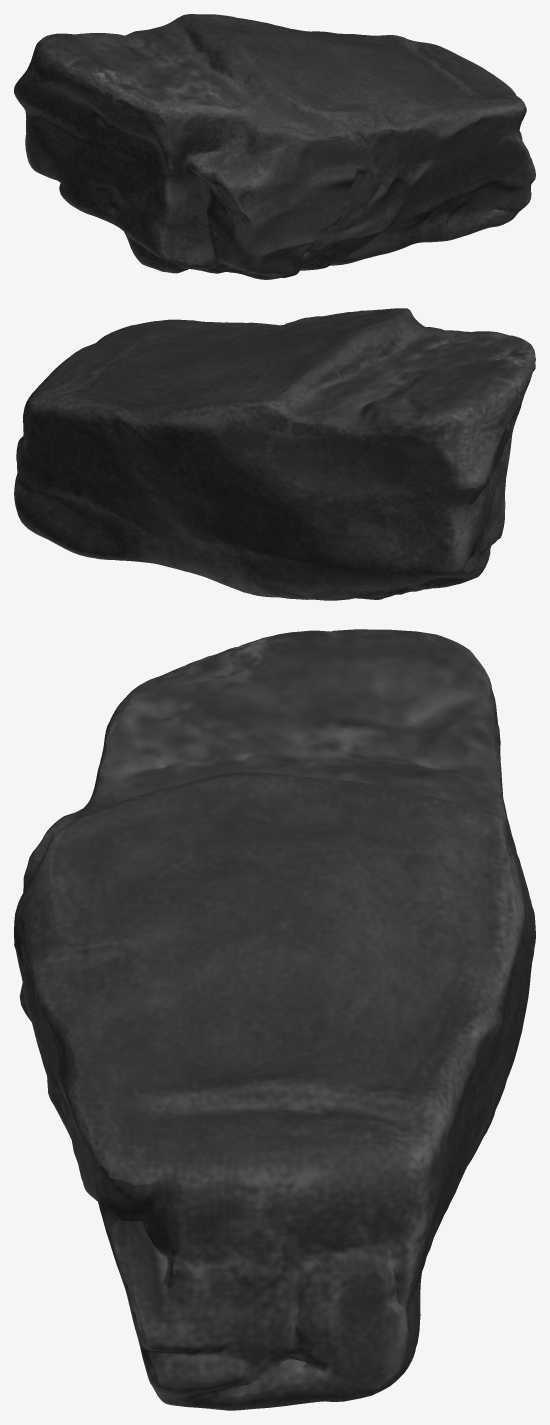
3 renders of one model, top to bottom at view 1: azimuth 30°, elevation 25°; view 2: azimuth 150°, elevation 25°; view 3: azimuth 270°, elevation 25°, orthographic. The views are drawn at different scales.
Parts seen in each view (by area): view 1: world; view 2: world; view 3: world.
Boxes of the visible parts, left/top/right/bottom form: world: left=14, top=14, right=535, bottom=279; world: left=14, top=308, right=535, bottom=600; world: left=14, top=629, right=535, bottom=1410.
Bounding box in the file's own units: 4.5 × 2.25 × 2.52.
1 material, 1 textured.
